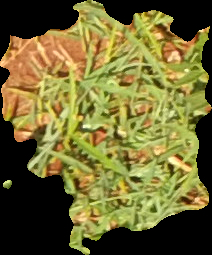grass: (1, 1, 211, 254)
